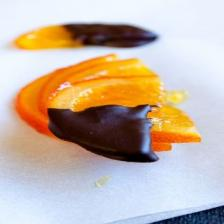orange: (15, 54, 154, 136), (47, 76, 165, 112), (148, 106, 201, 143)
